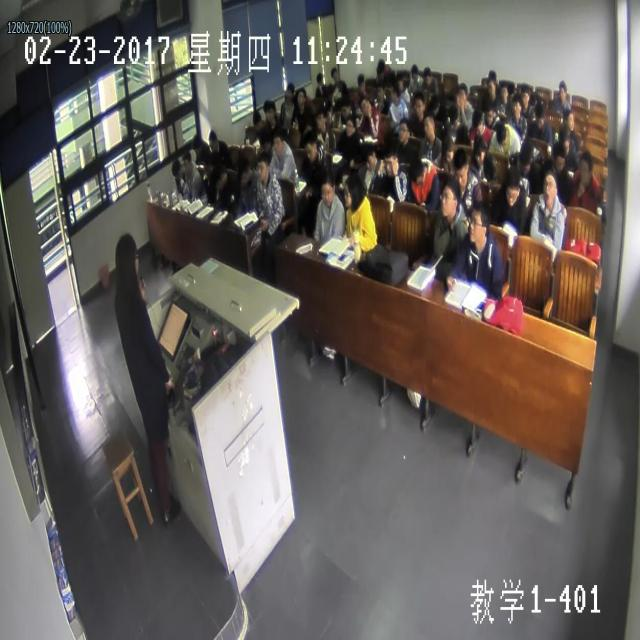person: (113, 233, 142, 291), (468, 200, 490, 244), (440, 176, 459, 218), (343, 173, 363, 209), (453, 148, 468, 187), (543, 166, 557, 207), (383, 142, 399, 176), (506, 167, 519, 207), (409, 153, 425, 184), (320, 173, 334, 207), (518, 141, 532, 175), (551, 142, 565, 176), (255, 152, 269, 184), (472, 134, 486, 166), (237, 156, 252, 185), (362, 142, 376, 172), (579, 151, 591, 186), (304, 130, 317, 162), (442, 132, 455, 162), (397, 116, 410, 145), (412, 92, 425, 120), (259, 126, 271, 156), (471, 107, 483, 137), (213, 163, 226, 190), (422, 112, 435, 139), (559, 125, 570, 156), (534, 101, 546, 129), (272, 129, 284, 156), (456, 81, 467, 110), (358, 94, 371, 118), (447, 104, 459, 128), (191, 134, 204, 156), (511, 93, 521, 121), (563, 109, 574, 134), (520, 83, 530, 110), (180, 151, 192, 173), (207, 130, 218, 154), (265, 98, 276, 122), (496, 122, 507, 146), (484, 102, 495, 126), (201, 151, 211, 177), (170, 158, 182, 178), (252, 110, 262, 134), (498, 82, 508, 105), (346, 112, 355, 136), (316, 109, 326, 130), (486, 78, 496, 99), (340, 98, 350, 118), (430, 94, 440, 114), (558, 82, 568, 102), (285, 80, 294, 102), (376, 82, 385, 104), (375, 60, 384, 82), (389, 84, 398, 105), (395, 72, 404, 93), (296, 87, 305, 107), (327, 84, 337, 102), (356, 73, 365, 93), (423, 65, 432, 85), (411, 63, 418, 84), (316, 71, 324, 89), (330, 68, 339, 84), (529, 90, 537, 106)
